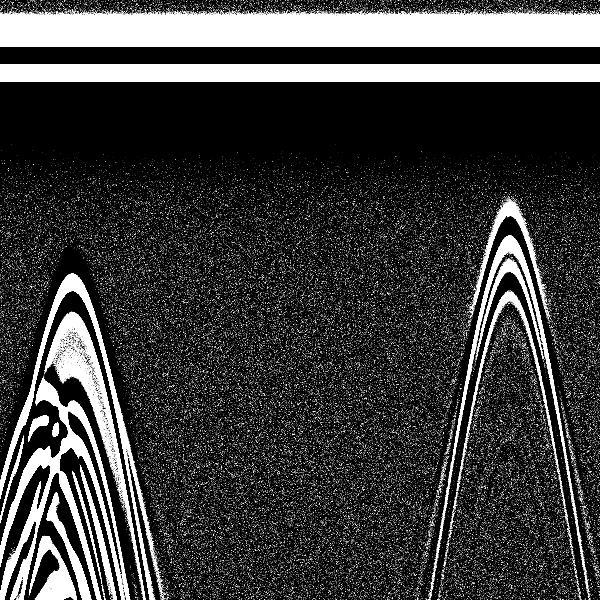pipe: (27, 7, 118, 369), (467, 7, 551, 305)
